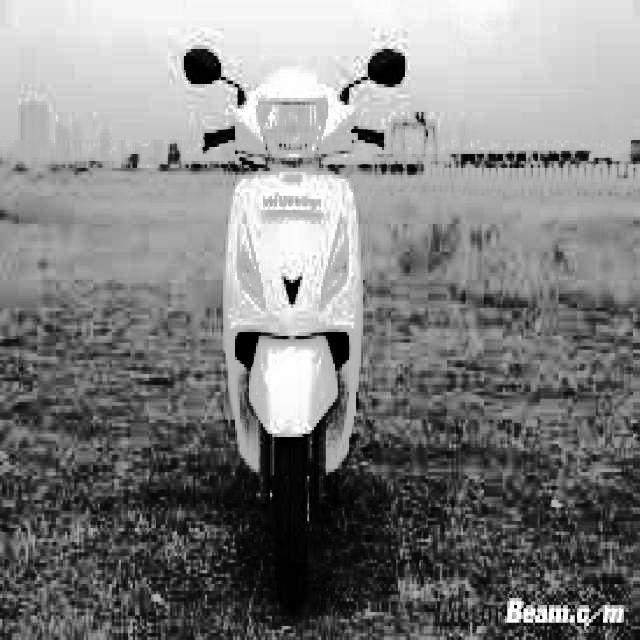Bike: (184, 45, 404, 640)
